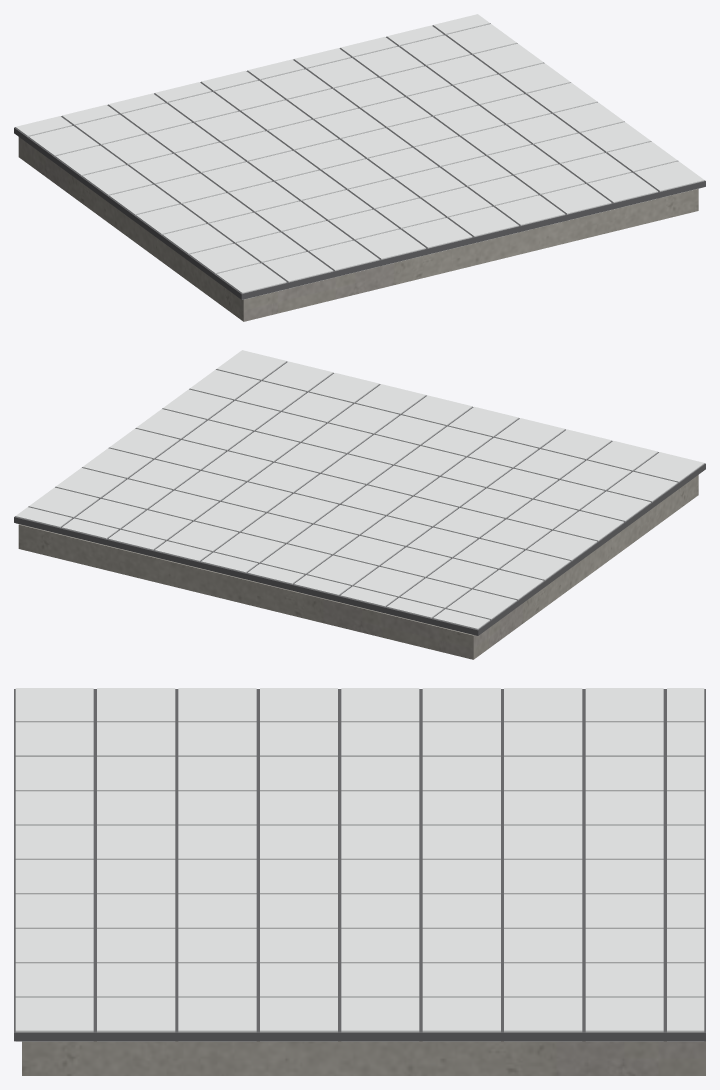
Rendered from floor_wc_g_e0_0_30_0.glb.
3 renders of one model, top to bottom at view 1: azimuth 30°, elevation 25°; view 2: azimuth 150°, elevation 25°; view 3: azimuth 270°, elevation 25°, orthographic. The views are drawn at different scales.
Visible parts, largest first — view 1: floor_wc_g_e0_0_30_0_tile, floor_wc_g_e0_0_30_0_concrete, floor_wc_g_e0_0_30_0_dark; view 2: floor_wc_g_e0_0_30_0_tile, floor_wc_g_e0_0_30_0_concrete, floor_wc_g_e0_0_30_0_dark; view 3: floor_wc_g_e0_0_30_0_tile, floor_wc_g_e0_0_30_0_concrete, floor_wc_g_e0_0_30_0_dark.
Boxes of the visible parts, x1=… form: floor_wc_g_e0_0_30_0_tile: x1=15, y1=14, x2=704, y2=299; floor_wc_g_e0_0_30_0_concrete: x1=18, y1=137, x2=698, y2=321; floor_wc_g_e0_0_30_0_dark: x1=14, y1=23, x2=705, y2=299; floor_wc_g_e0_0_30_0_tile: x1=15, y1=350, x2=704, y2=635; floor_wc_g_e0_0_30_0_concrete: x1=18, y1=475, x2=698, y2=659; floor_wc_g_e0_0_30_0_dark: x1=14, y1=361, x2=705, y2=635; floor_wc_g_e0_0_30_0_tile: x1=15, y1=688, x2=704, y2=1041; floor_wc_g_e0_0_30_0_concrete: x1=22, y1=1041, x2=705, y2=1075; floor_wc_g_e0_0_30_0_dark: x1=14, y1=689, x2=705, y2=1041.
Bounding box in the file's own units: 2 × 0.13 × 1.7.
3 materials, 1 textured.
